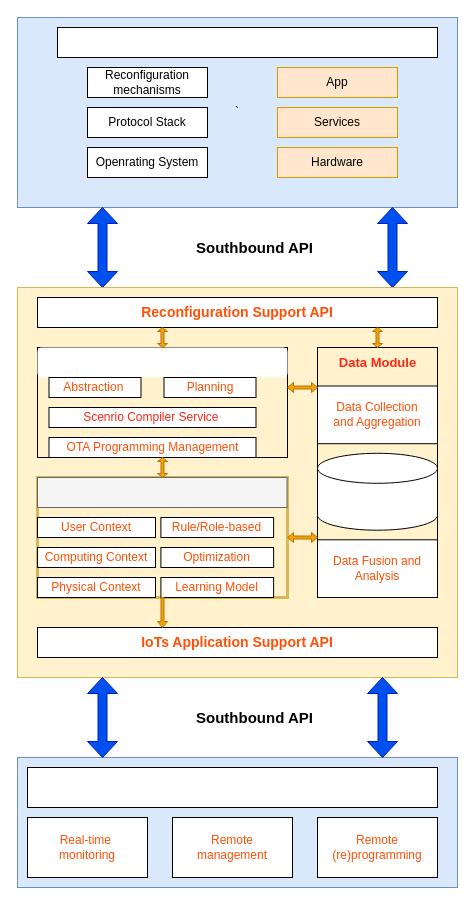
Image size: 475x905. Some labels were removed from this diagram. Here are the shapes that lost their labels. From the top down, the centre of each, then its label:
At point (247, 42): "IoTs devices reconfiguration APIs".
At point (162, 362): "System Reconfiguration Service".
At point (161, 492): "Context Managenment and Reasoning".
At point (377, 491): "Data storage".
At point (232, 787): "IoTs Application Layer Protocols (HTTPS, MQTT, CoAP, ect.)".
